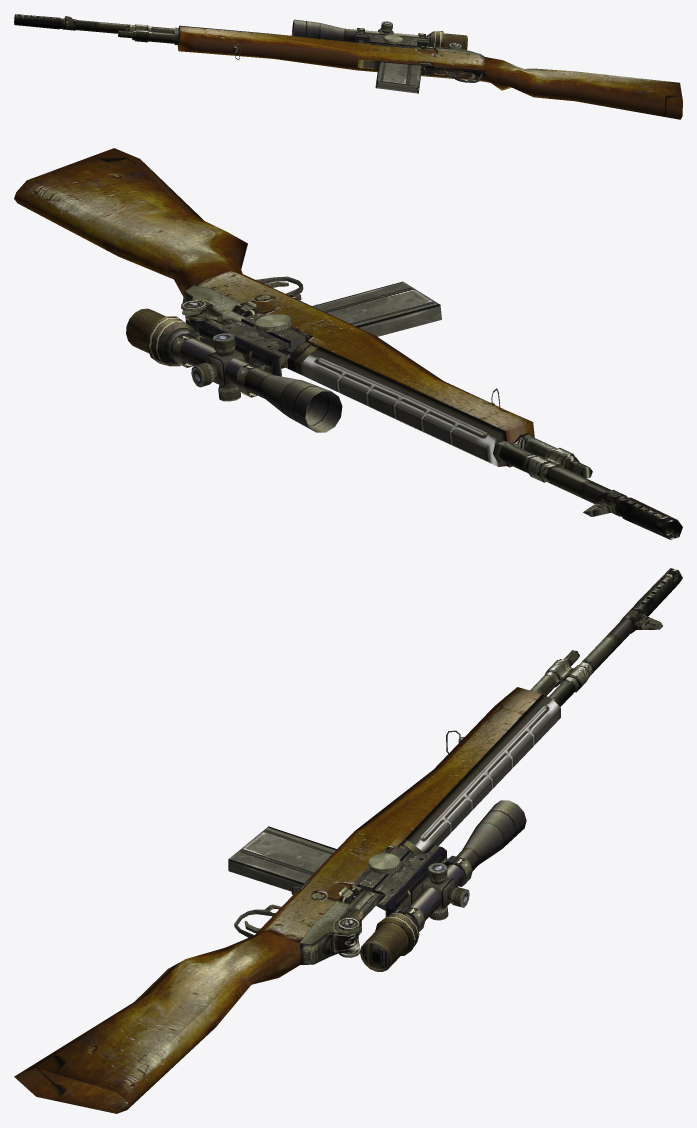
3 renders of one model, top to bottom at view 1: azimuth 30°, elevation 25°; view 2: azimuth 150°, elevation 25°; view 3: azimuth 270°, elevation 25°, orthographic. The views are drawn at different scales.
Visible parts, largest first — view 1: _m21_1st; view 2: _m21_1st; view 3: _m21_1st.
Part boxes in pixels (box(x1,y1,x2,y2)): _m21_1st: box(14, 14, 682, 119); _m21_1st: box(14, 148, 682, 539); _m21_1st: box(14, 568, 682, 1113).
Size of the model in its own units: 1.14 by 0.1772 by 0.7806.
Materials: 2 (2 with a texture image).
